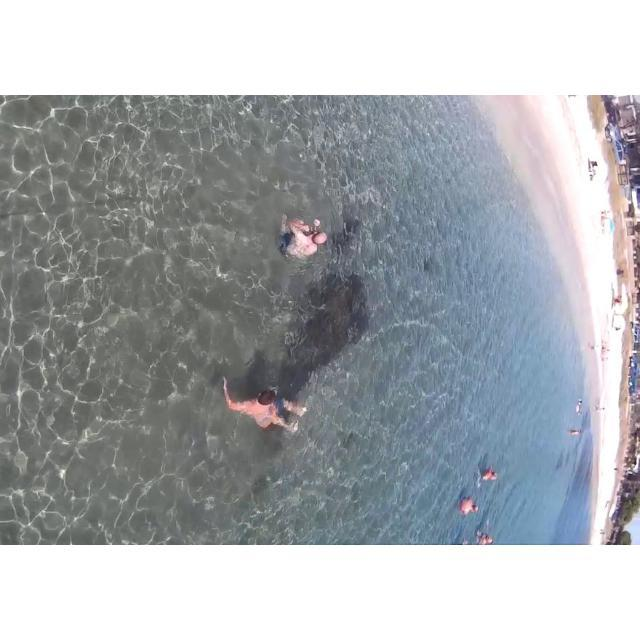human: (221, 347, 321, 457), (271, 187, 332, 276), (459, 490, 483, 519), (479, 463, 503, 489)
